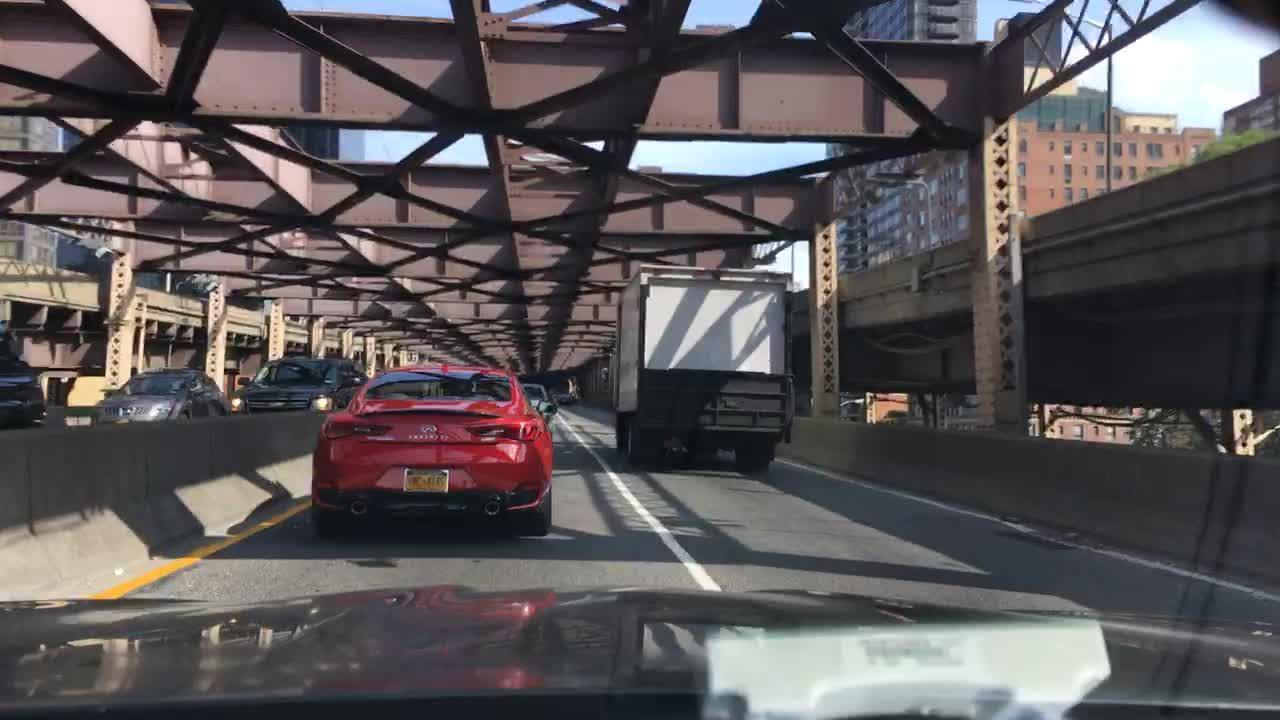Infiniti: (411, 416, 446, 437)
